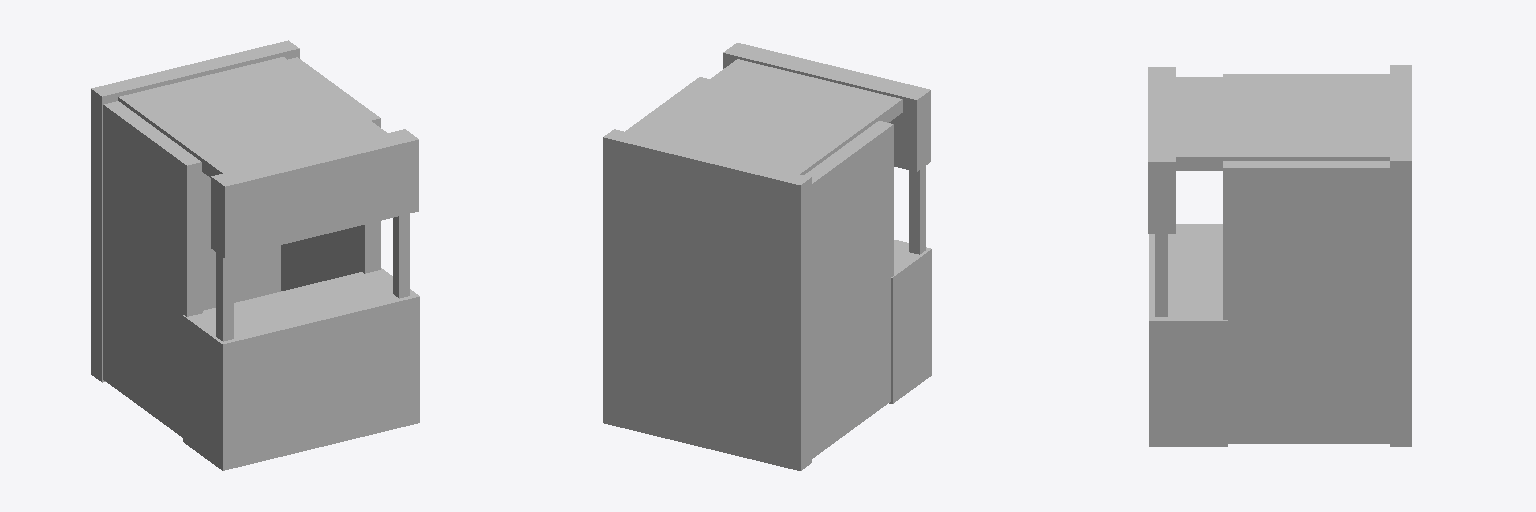
The model's file is TradingPost.obj.
3 views of the same model, side by side, from view 1: azimuth 30°, elevation 25°; view 2: azimuth 150°, elevation 25°; view 3: azimuth 270°, elevation 25° (orthographic).
Visible parts, largest first — view 1: pCube6; view 2: pCube6; view 3: pCube6.
Part boxes in pixels (x1,y1,x2,y2): pCube6: (91,40,419,470); pCube6: (603,43,931,470); pCube6: (1148,65,1411,446).
Bounding box in the file's own units: 2.87 × 3.98 × 3.34.